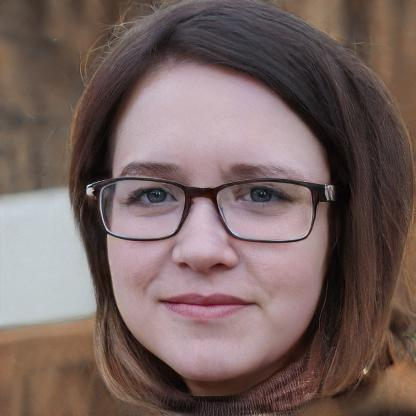glasses: (83, 169, 332, 244)
